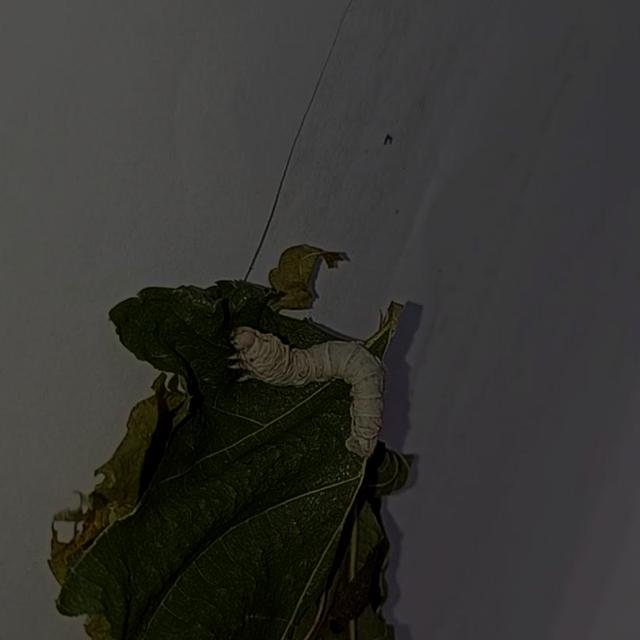Healthy: (219, 310, 401, 466)
